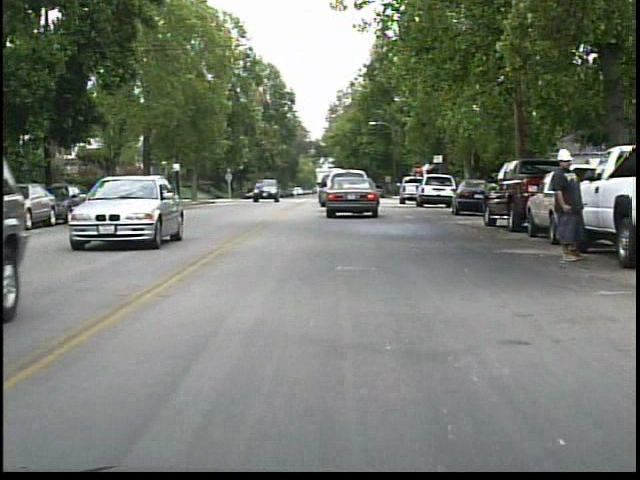person: (545, 143, 591, 266)
